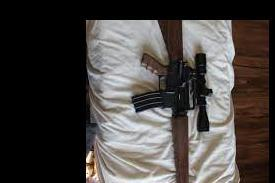larga: (131, 20, 214, 183)
